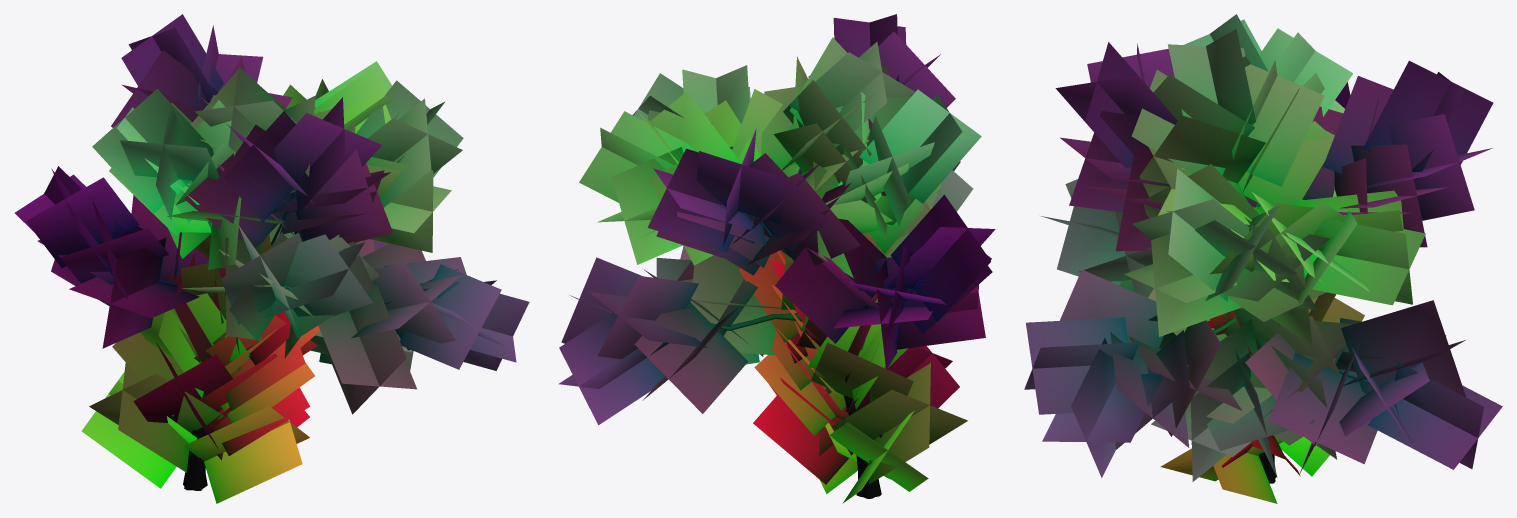
The model's file is M_P3_Tree_11.fbx.
3 views of the same model, side by side, from view 1: azimuth 30°, elevation 25°; view 2: azimuth 150°, elevation 25°; view 3: azimuth 270°, elevation 25° (orthographic). The views are drawn at different scales.
Visible parts, largest first — view 1: Tree_11; view 2: Tree_11; view 3: Tree_11.
Part boxes in pixels (box(x1,y1,x2,y2)): Tree_11: box(15, 14, 529, 503); Tree_11: box(559, 14, 995, 503); Tree_11: box(1024, 14, 1502, 503).
Bounding box in the file's own units: 527 × 536 × 492.
